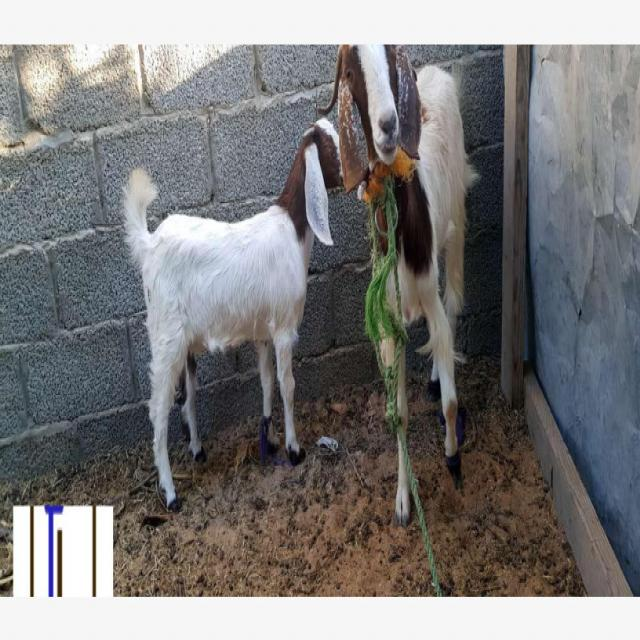goat: (320, 45, 518, 407), (127, 169, 350, 457)
